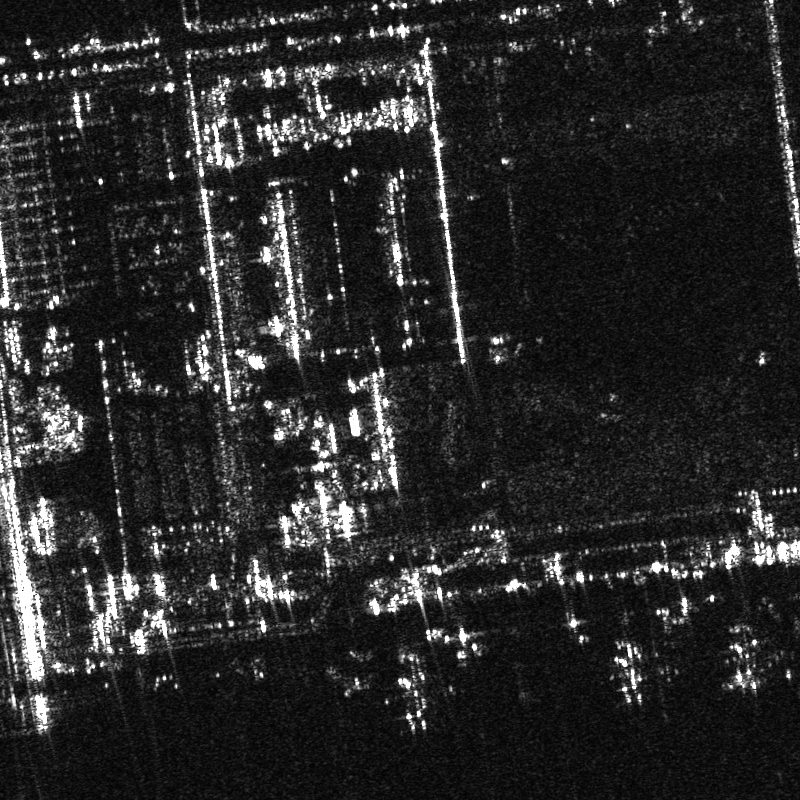Boeing787: (356, 646, 463, 736), (595, 632, 664, 705), (717, 623, 776, 693)
